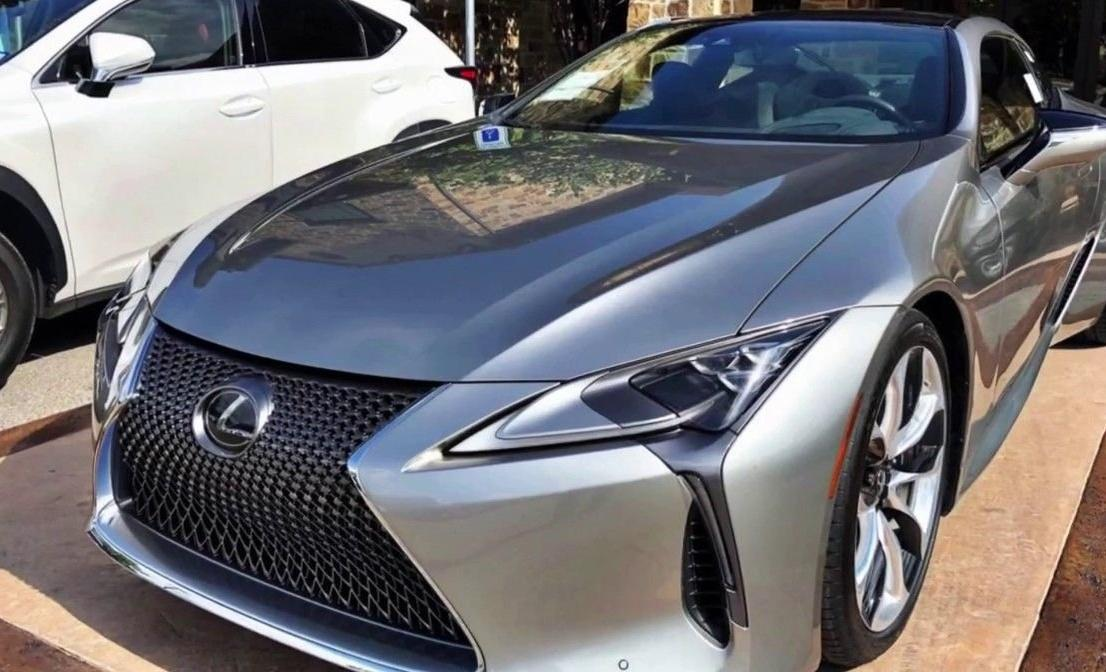Cars: (90, 16, 1106, 672)
